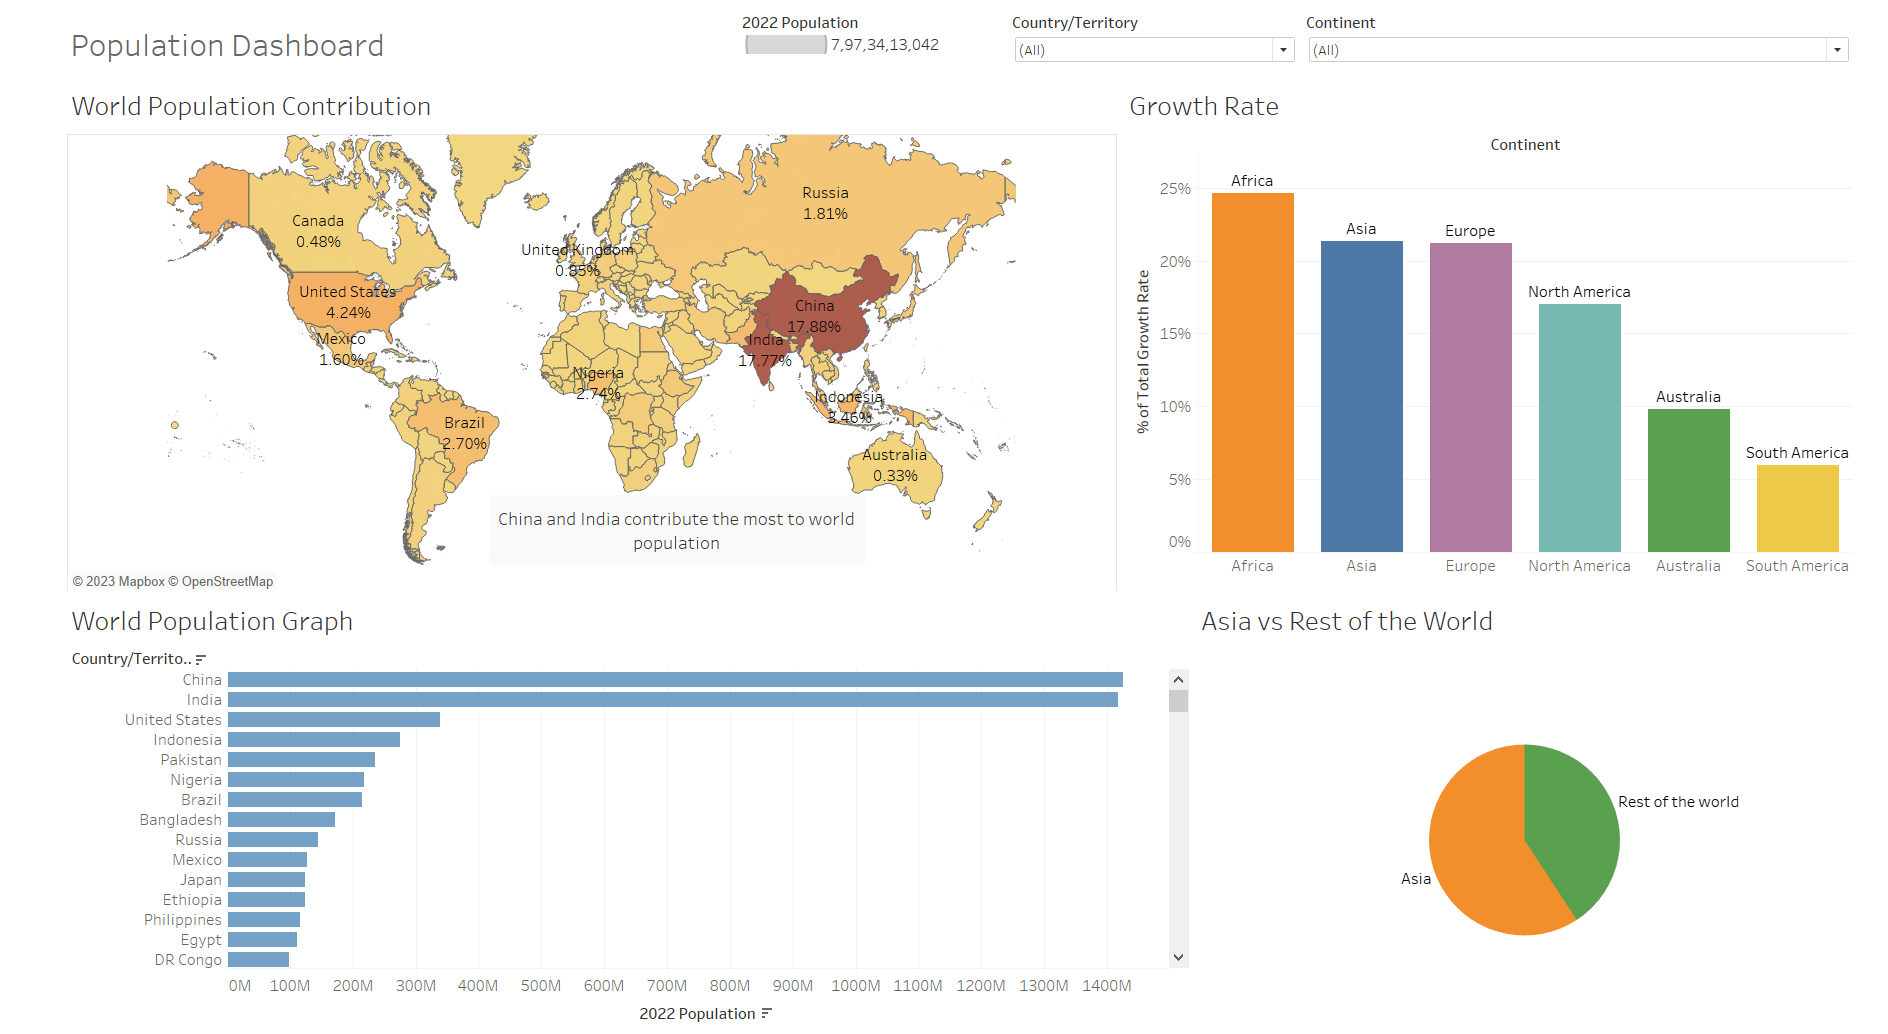

The dashboard page shown, as its layout file describes it:
{"tool":"tableau","page":{"name":"World Population Demo Dashboard","canvas":[1000,1000],"units":"permille","ordinal":0},"visuals":[{"type":"text","box":[4.7,8.5,372.9,68.9]},{"type":"legend","title":"Asia vs Rest of the World","param":"[federated.1sip1hd1tamyuy1ahff9n07qorex].[sum:2022 Population:qk]","box":[377.5,8.5,149.3,68.9]},{"type":"filter","title":"World Population Contribution","param":"[federated.1sip1hd1tamyuy1ahff9n07qorex].[none:Country/Territory:nk]","box":[526.8,8.5,162.2,68.9]},{"type":"filter","title":"Growth Rate","param":"[federated.1sip1hd1tamyuy1ahff9n07qorex].[none:Continent:nk]","box":[689,8.5,306.3,68.9]},{"type":"worksheet","title":"World Population Contribution","mark":"Multipolygon","box":[4.7,77.3,584.5,493.5]},{"type":"worksheet","title":"Growth Rate","mark":"Automatic","rows":["Growth Rate"],"cols":["Continent"],"box":[589.2,77.3,406.1,493.5]},{"type":"worksheet","title":"World Population Graph","mark":"Automatic","rows":["Country/Territory"],"cols":["2022 Population"],"box":[4.7,570.8,624.3,420.7]},{"type":"worksheet","title":"Asia vs Rest of the World","mark":"Pie","box":[629,570.8,366.3,420.7]}]}

Visuals, with their boxes on the dashboard's canvas, which has no fixed pixel size, in thousandths of its width and height (x1, y1, x2, y2). These are canvas units, not pixel positions in the 1888x1034 screenshot, which may show the page scaled, cropped or inside an application window:
text: (left=5, top=8, right=378, bottom=77)
"Asia vs Rest of the World" legend: (left=378, top=8, right=527, bottom=77)
"World Population Contribution" filter: (left=527, top=8, right=689, bottom=77)
"Growth Rate" filter: (left=689, top=8, right=995, bottom=77)
"World Population Contribution" worksheet (Multipolygon marks): (left=5, top=77, right=589, bottom=571)
"Growth Rate" worksheet: (left=589, top=77, right=995, bottom=571)
"World Population Graph" worksheet: (left=5, top=571, right=629, bottom=992)
"Asia vs Rest of the World" worksheet (Pie marks): (left=629, top=571, right=995, bottom=992)
